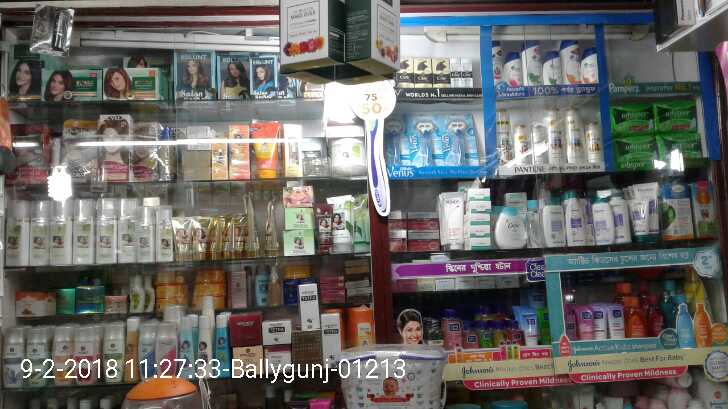venus: (443, 112, 475, 161), (385, 119, 413, 162), (414, 120, 443, 161)
